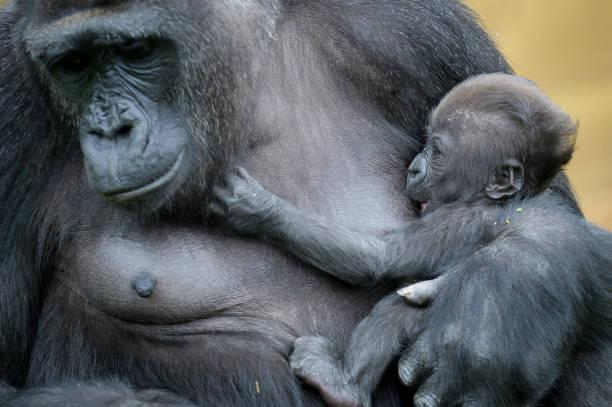gorille_Autres: (0, 1, 612, 406)
